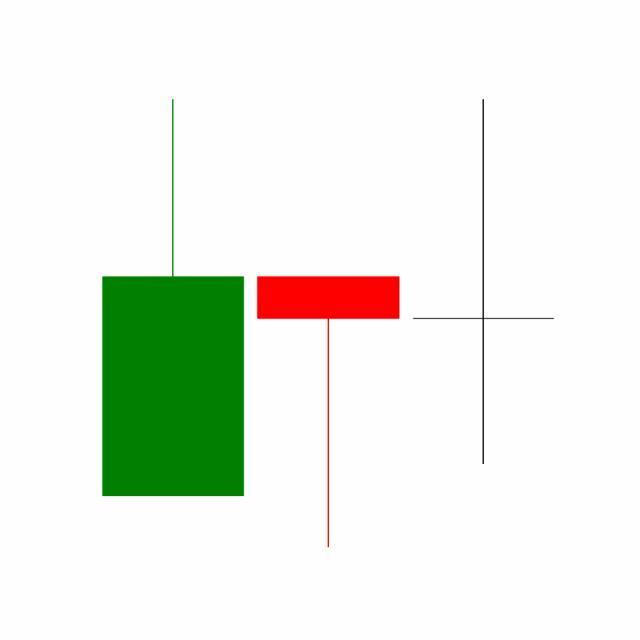Spinning Top: (406, 95, 562, 468)
